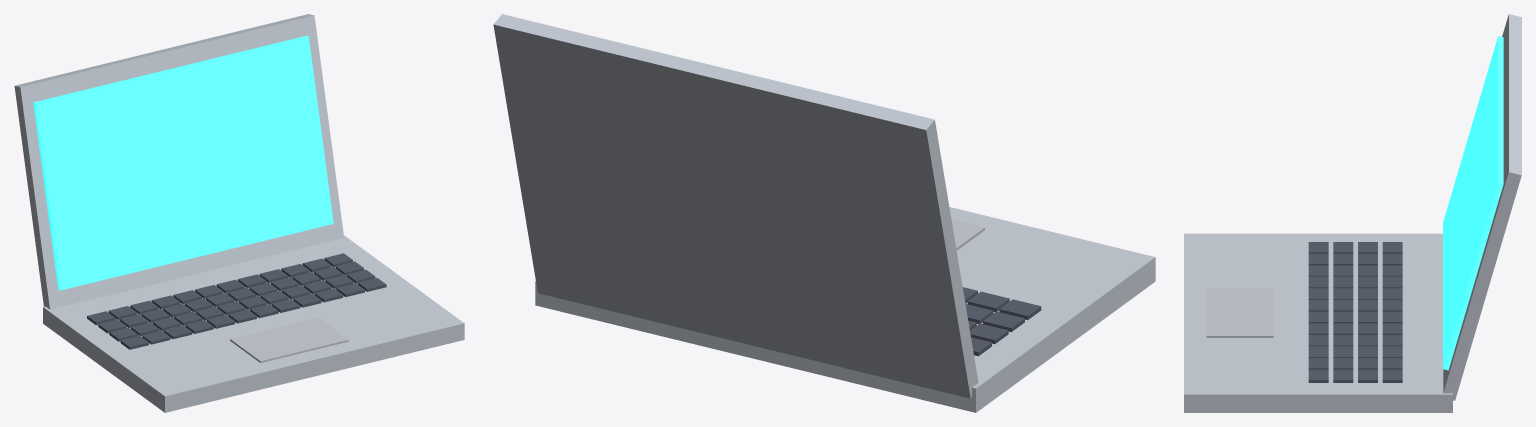
The model's file is laptop.glb.
3 views of the same model, side by side, from view 1: azimuth 30°, elevation 25°; view 2: azimuth 150°, elevation 25°; view 3: azimuth 270°, elevation 25° (orthographic). The views are drawn at different scales.
Parts seen in each view (by area): view 1: Laptop lid, Laptop base, Laptop keys, Trackpad; view 2: Laptop lid, Laptop base, Laptop keys; view 3: Laptop base, Laptop lid, Laptop keys, Trackpad.
Part boxes in pixels (box(x1,y1,x2,y2)): Laptop lid: box(14, 14, 344, 309); Laptop base: box(43, 235, 464, 412); Laptop keys: box(87, 253, 386, 349); Trackpad: box(230, 317, 348, 362); Laptop lid: box(493, 14, 978, 398); Laptop base: box(535, 207, 1155, 412); Laptop keys: box(962, 287, 1041, 356); Laptop base: box(1184, 233, 1452, 412); Laptop lid: box(1443, 14, 1521, 400); Laptop keys: box(1308, 242, 1402, 382); Trackpad: box(1206, 288, 1273, 337).
Bounding box in the file's own units: 0.34 × 0.2357 × 0.3013.
